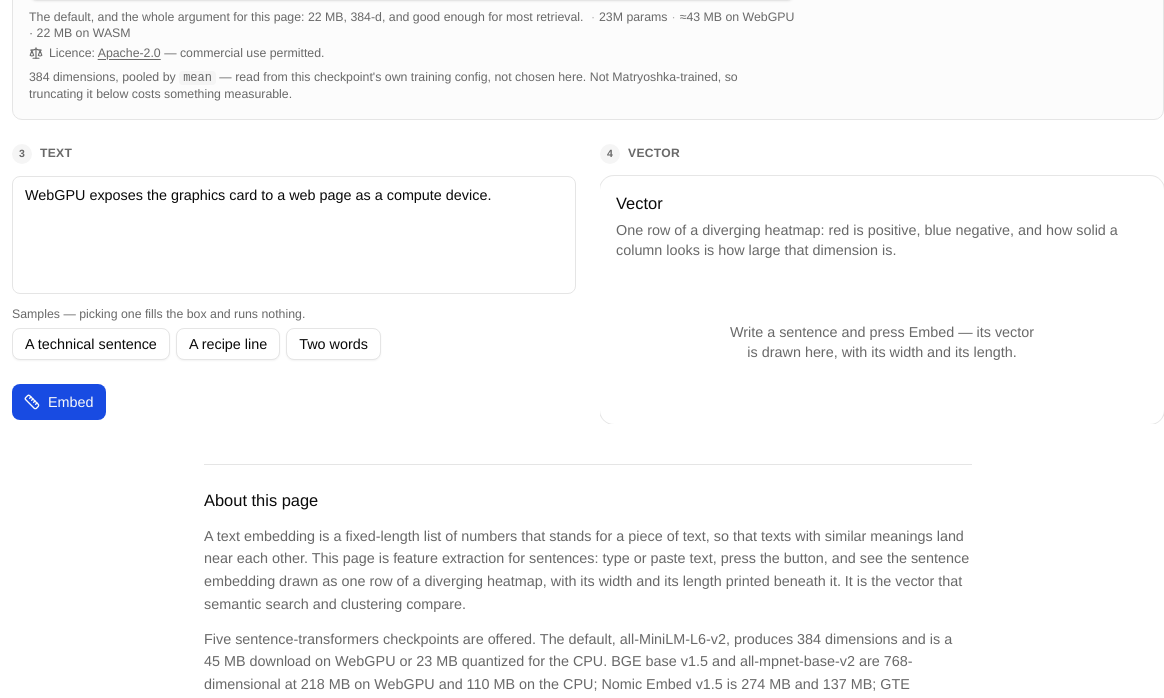
Test: TextFeaturesPage › runs nothing when a sample is picked — it only fills the box
(page scrolled)
Click the button "A recipe line": (228, 344) [176, 328, 280, 360]
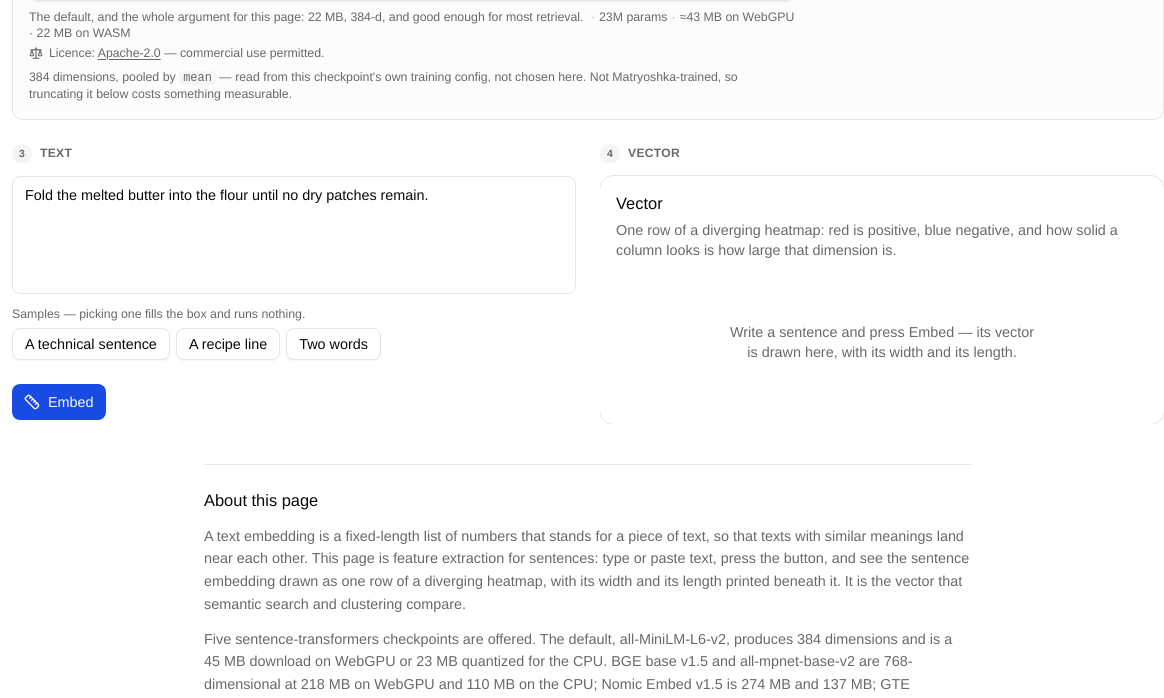
expect the text with test id "output-empty" is shown: met, box [730, 322, 1034, 360]
expect the text box named "text to embed" holds "Fold the melted butter into the flour until no dry patches remain.": met, box [12, 176, 576, 294]
